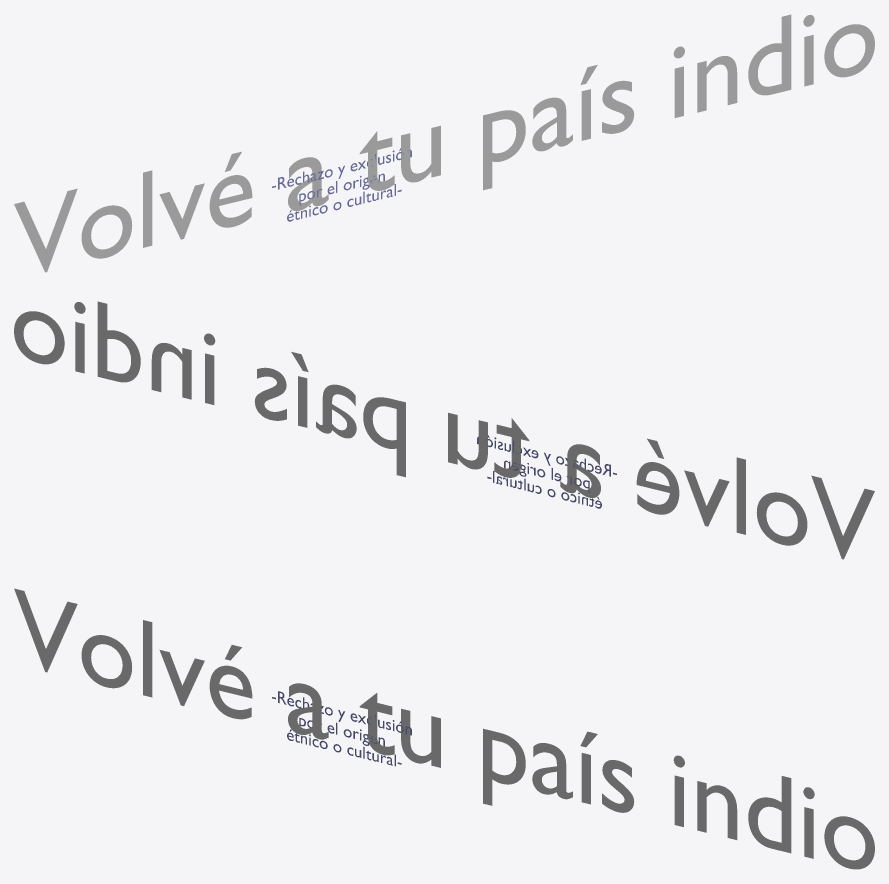
The model's file is palabras1.glb.
The picture shows the model from 3 angles, top to bottom: view 1: azimuth 30°, elevation 25°; view 2: azimuth 150°, elevation 25°; view 3: azimuth 330°, elevation 25°; orthographic projection.
Visible parts, largest first — view 1: INDIO, INDIO.001; view 2: INDIO, INDIO.001; view 3: INDIO, INDIO.001.
Boxes of the visible parts, x1,y1,x2,y2 form: INDIO: (14,14,874,272); INDIO.001: (272,148,411,221); INDIO: (14,301,874,559); INDIO.001: (477,435,616,508); INDIO: (14,588,874,869); INDIO.001: (272,691,411,766).
Size of the model in its own units: 1.15 by 0.1282 by 5.02e-09.
